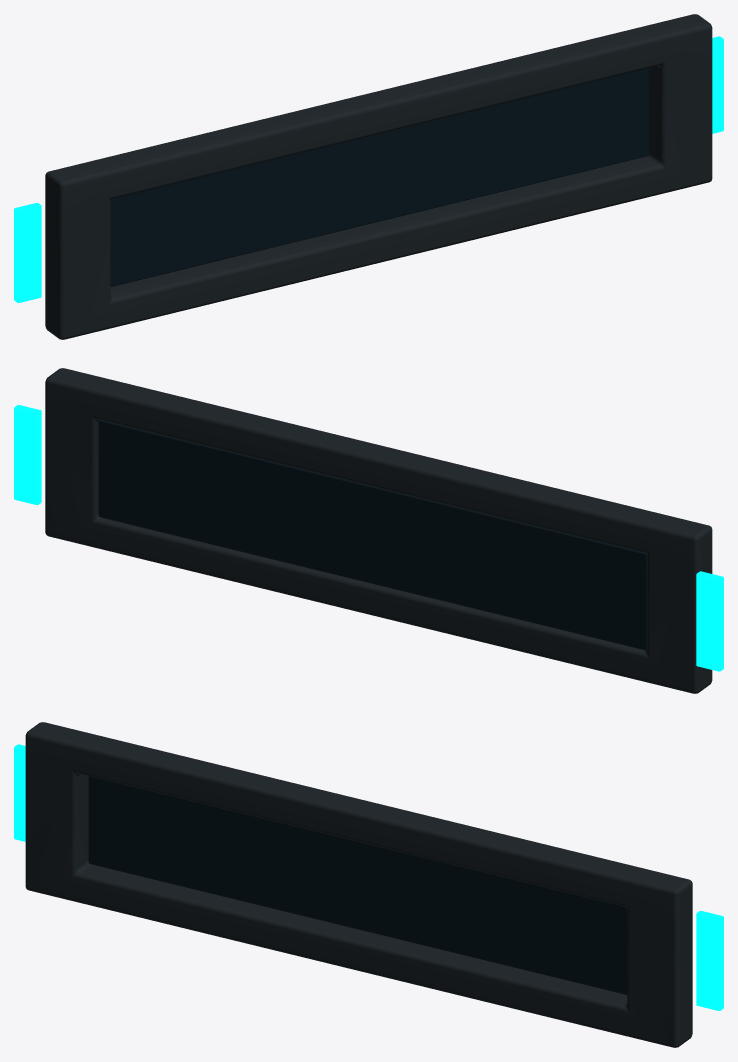
Rendered from machine-display.glb.
The picture shows the model from 3 angles, top to bottom: view 1: azimuth 30°, elevation 25°; view 2: azimuth 150°, elevation 25°; view 3: azimuth 330°, elevation 25°; orthographic projection.
Parts seen in each view (by area): view 1: machine-display_Rubber_Graphite, machine-display_Smoked_Display, machine-display_Mat_CyanEmissive.001; view 2: machine-display_Rubber_Graphite, machine-display_Smoked_Display, machine-display_Mat_CyanEmissive.001; view 3: machine-display_Rubber_Graphite, machine-display_Smoked_Display, machine-display_Mat_CyanEmissive.001.
Boxes of the visible parts, box(x1,y1,x2,y2) form: machine-display_Rubber_Graphite: box(45, 14, 712, 339); machine-display_Smoked_Display: box(110, 68, 649, 286); machine-display_Mat_CyanEmissive.001: box(14, 36, 723, 302); machine-display_Rubber_Graphite: box(45, 368, 712, 693); machine-display_Smoked_Display: box(98, 420, 647, 650); machine-display_Mat_CyanEmissive.001: box(14, 405, 723, 671); machine-display_Rubber_Graphite: box(25, 722, 692, 1047); machine-display_Smoked_Display: box(88, 776, 627, 994); machine-display_Mat_CyanEmissive.001: box(14, 744, 723, 1010).
Size of the model in its own units: 1.23 by 0.265 by 0.063.
